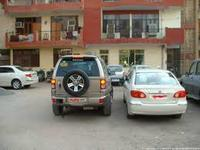car: (50, 54, 114, 115), (121, 68, 188, 120)
